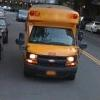Bus: (23, 1, 83, 79)
